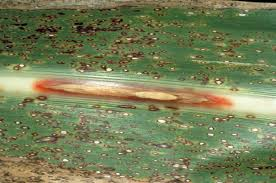Red-Rot: (28, 70, 259, 131), (3, 18, 270, 63), (29, 134, 276, 180)
